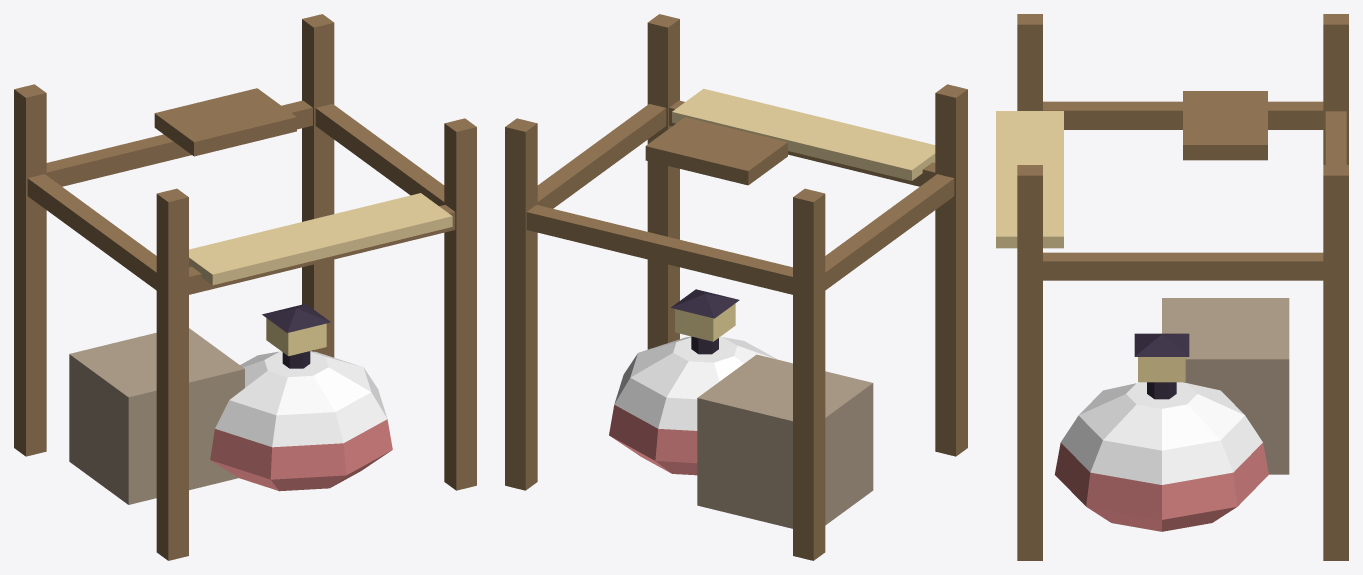
The model's file is ocean-scaffold.glb.
The picture shows the model from 3 angles, left to right: view 1: azimuth 30°, elevation 25°; view 2: azimuth 150°, elevation 25°; view 3: azimuth 270°, elevation 25°; orthographic projection. The views are drawn at different scales.
Visible parts, largest first — view 1: ocean-scaffold; view 2: ocean-scaffold; view 3: ocean-scaffold.
Boxes of the visible parts, x1=… form: ocean-scaffold: x1=14, y1=14, x2=476, y2=560; ocean-scaffold: x1=505, y1=14, x2=967, y2=560; ocean-scaffold: x1=996, y1=14, x2=1348, y2=560.
Size of the model in its own units: 0.9 by 1 by 0.83.
